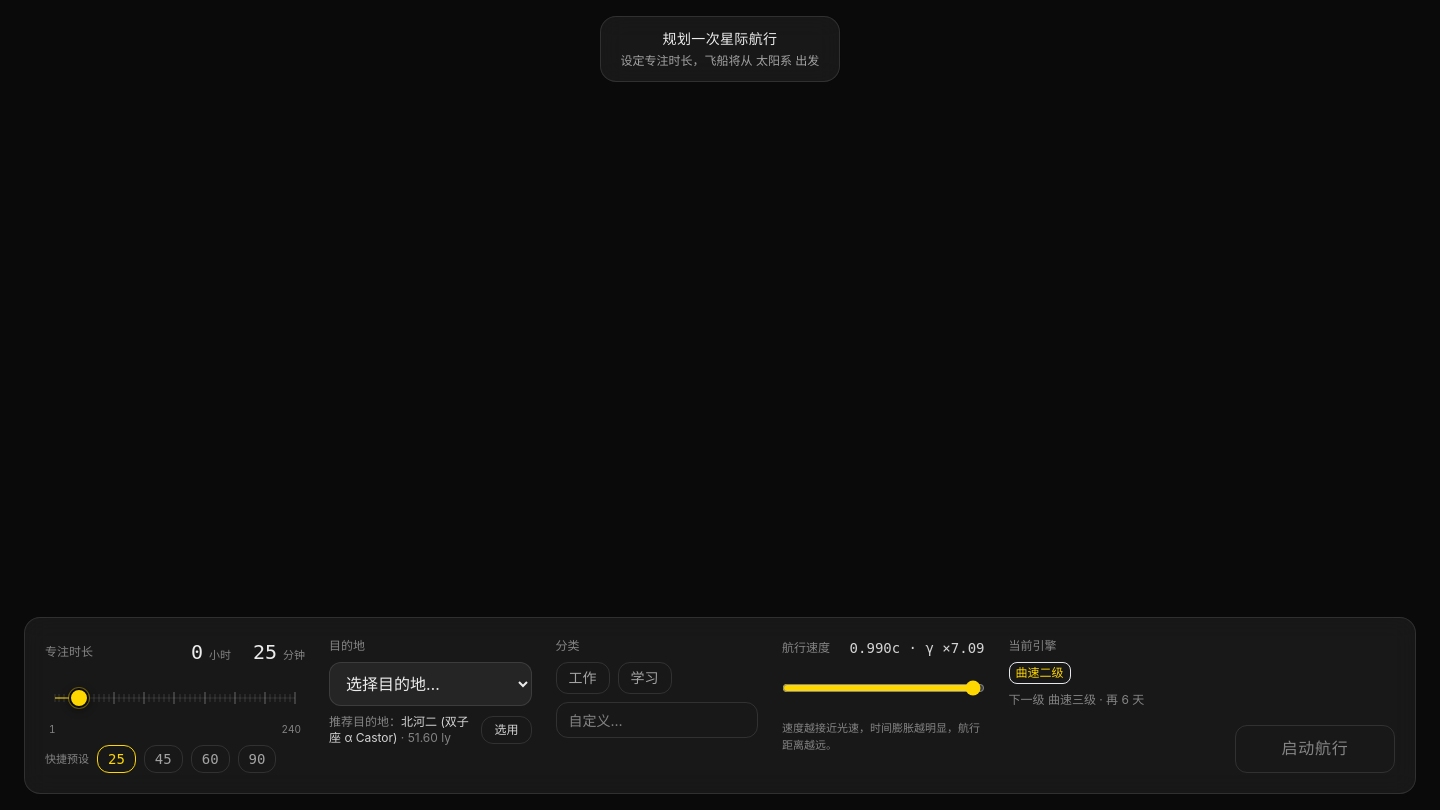
Test: SetupPanel › 引擎解锁（S27）：累计 50h 解锁曲速二级，织女星 25 分钟可达
Select "织女一 (天琴座 α Vega) · 25.04 ly" in the dropdown labelled "目的地" at (430, 684), box [329,662,532,706]
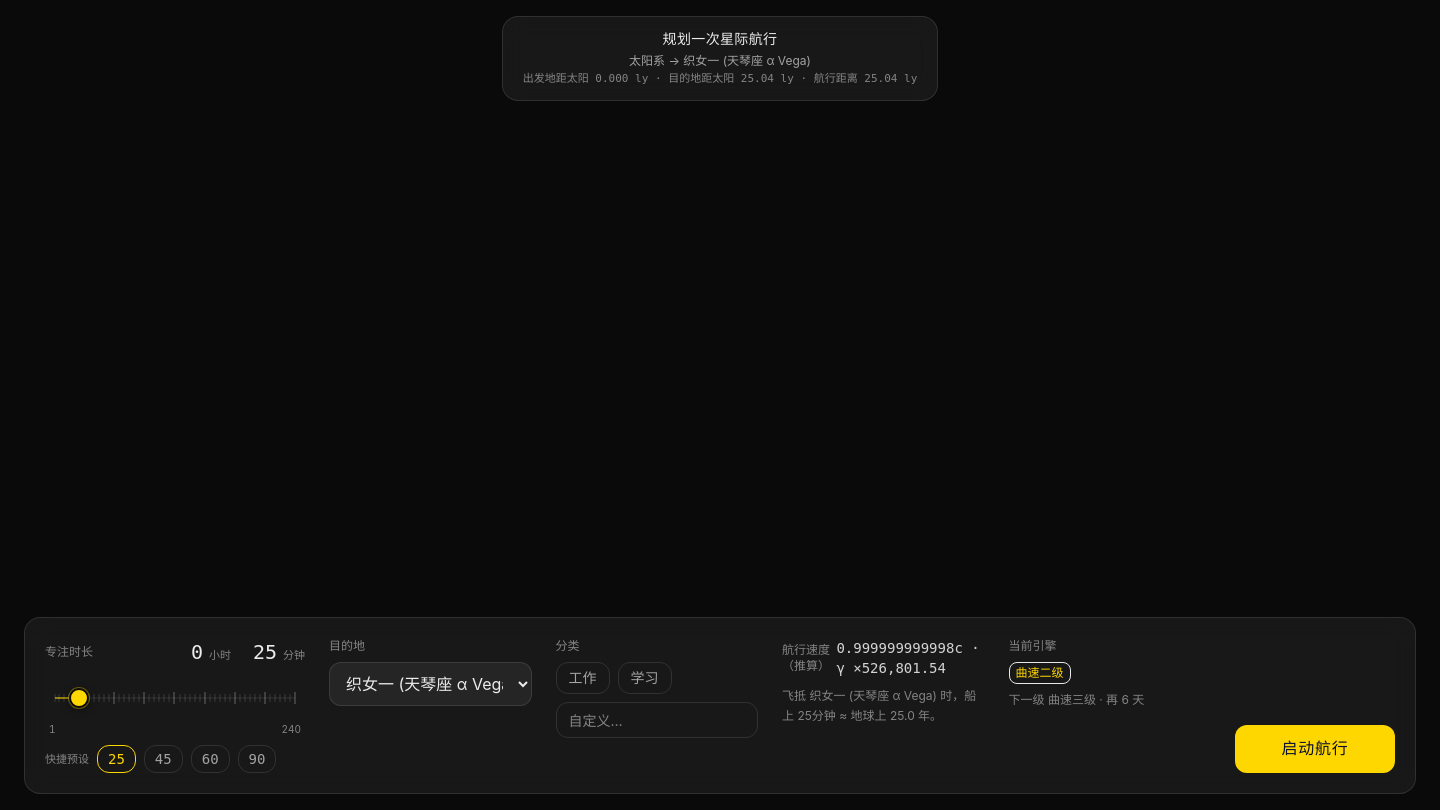
expect the element with test id "engine-status" shows "曲速二级": met, box [1016,665,1064,680]
expect the button "启动航行" is enabled: met, box [1235,725,1395,773]
